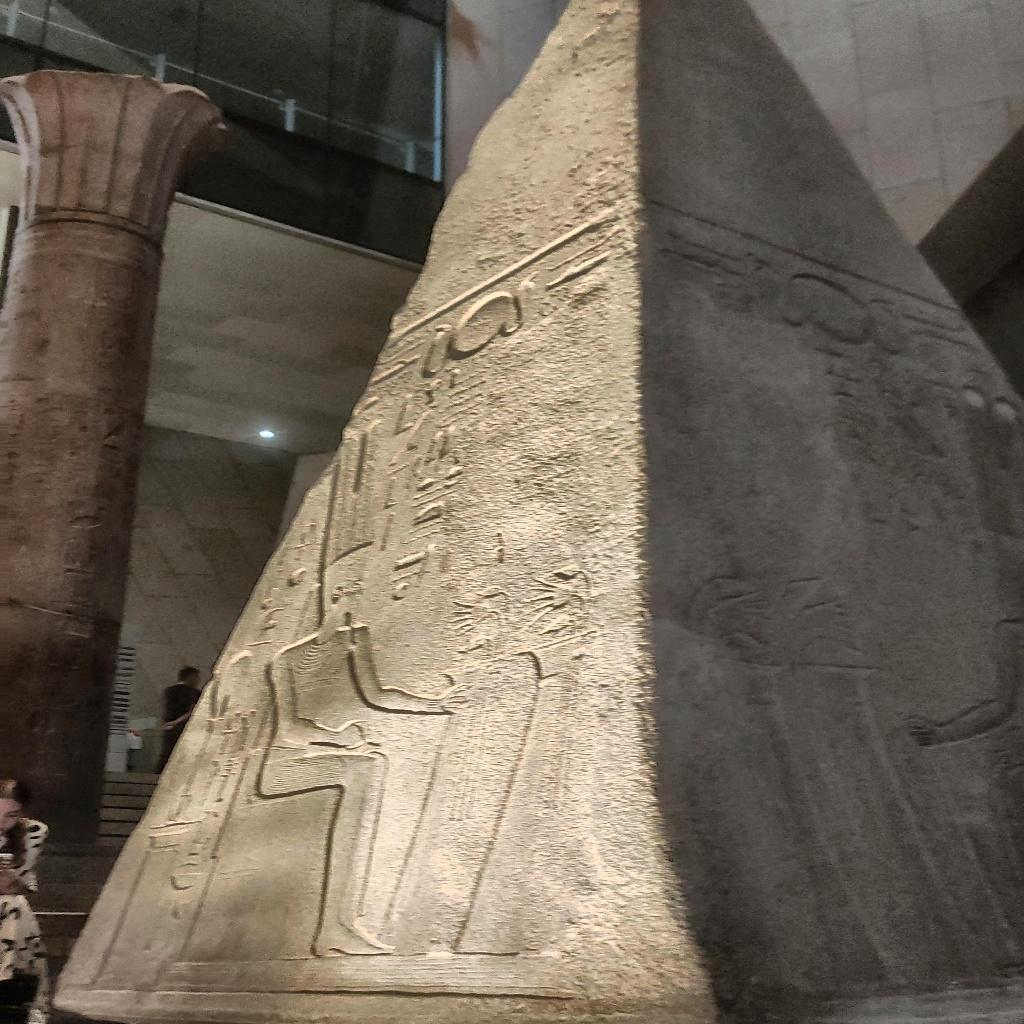Obelsik Tip of Hatshepsut: (41, 0, 1024, 1014)
